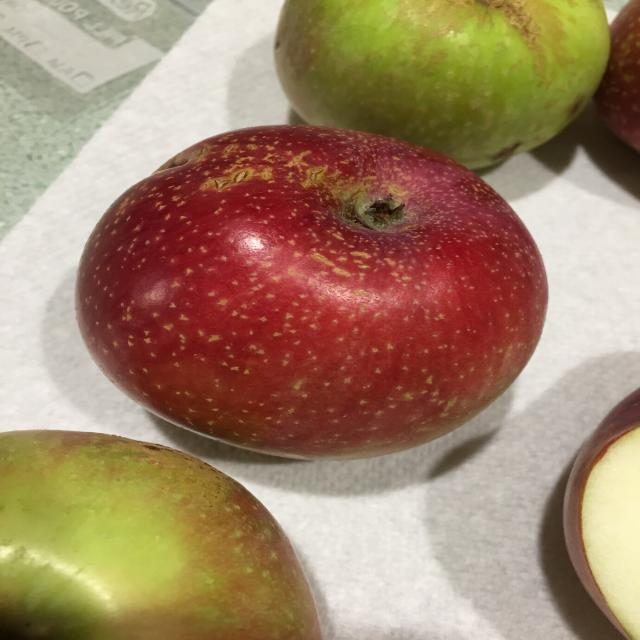Apple: (81, 120, 555, 460), (0, 424, 333, 640), (274, 3, 620, 175)
